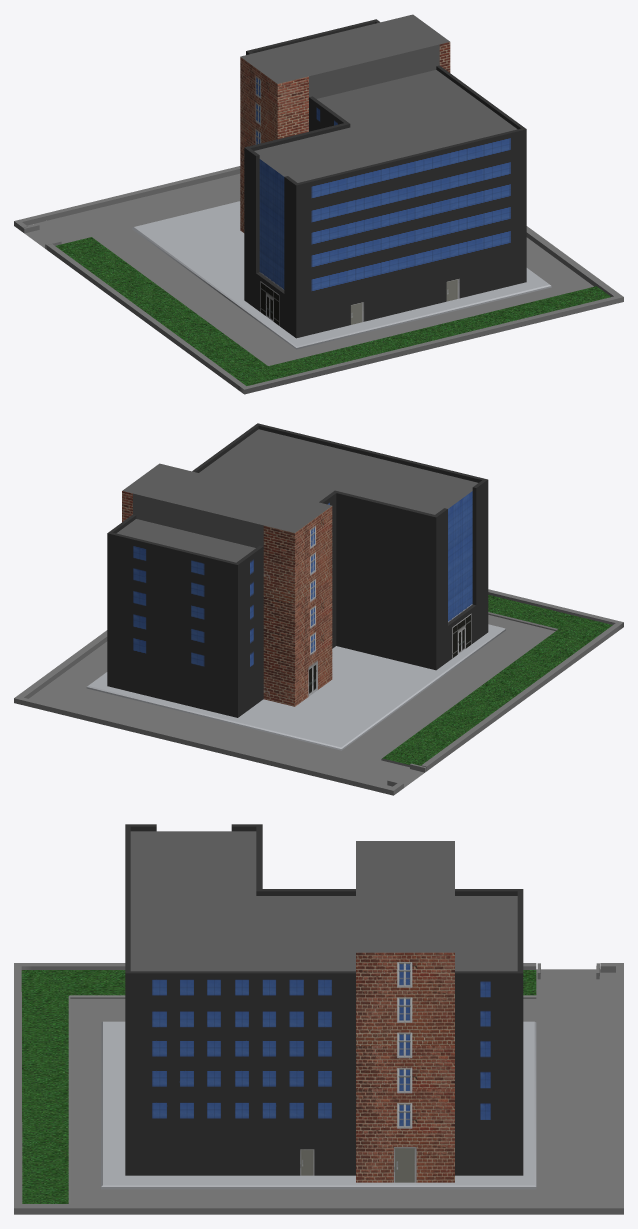
The model's file is officeBlock.glb.
The picture shows the model from 3 angles, top to bottom: view 1: azimuth 30°, elevation 25°; view 2: azimuth 150°, elevation 25°; view 3: azimuth 270°, elevation 25°; orthographic projection. The views are drawn at different scales.
Parts seen in each view (by area): view 1: SiteOffice001, SiteOffice_Ground; view 2: SiteOffice001, SiteOffice_Ground; view 3: SiteOffice001, SiteOffice_Ground.
Part boxes in pixels (<box>): SiteOffice001: <box>240,14,526,338</box>; SiteOffice_Ground: <box>14,166,623,394</box>; SiteOffice001: <box>107,423,488,717</box>; SiteOffice_Ground: <box>14,589,623,795</box>; SiteOffice001: <box>125,824,523,1182</box>; SiteOffice_Ground: <box>14,963,623,1214</box>.
Size of the model in its own units: 54285 by 24102 by 57050.
2 materials, 2 textured.
